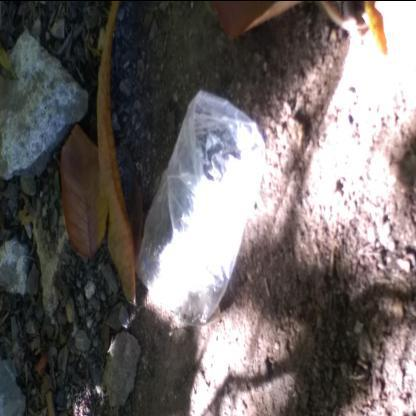plastik: (137, 89, 265, 327)
